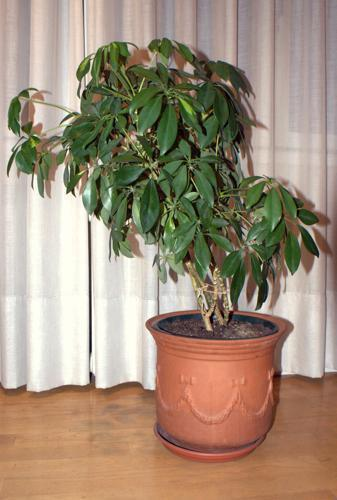Matera: (10, 19, 326, 468)
